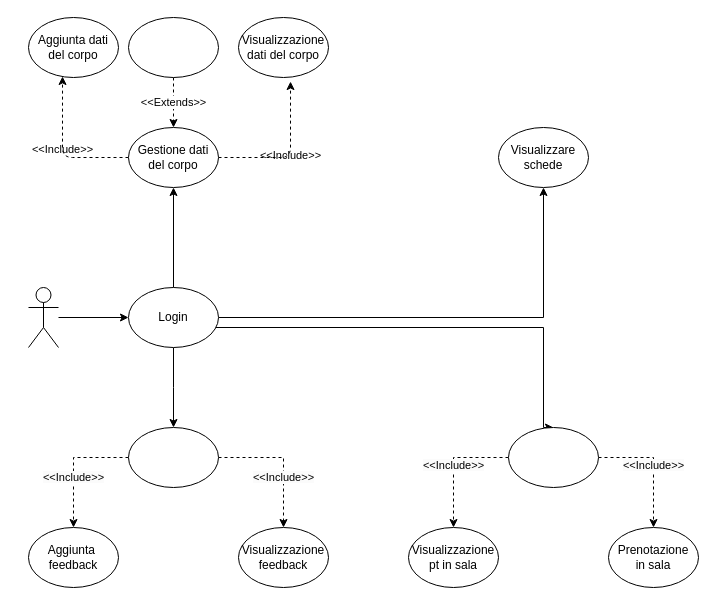
The diagram is 716 pixels wide and 605 high, and some of its shapes have lost their labels. The shapes that lost their labels are listed below. From the top down, each one's box as (x1, y1, x2, y2) in pixels, then its label:
(128, 16, 218, 78): Accettare o rifiutare privacy
(28, 286, 58, 348): Customer
(128, 426, 218, 488): Gestione feedback
(508, 426, 598, 488): Gestione prenotazioni
